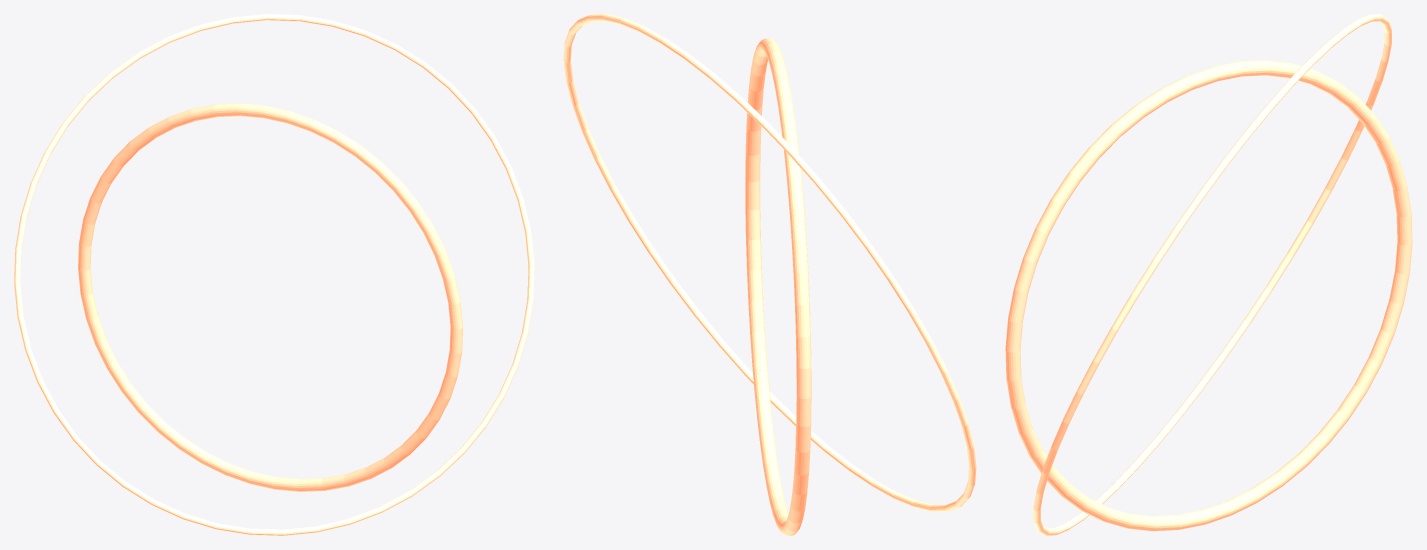
File: toruses.glb
3 renders of one model, left to right at view 1: azimuth 30°, elevation 25°; view 2: azimuth 150°, elevation 25°; view 3: azimuth 270°, elevation 25°, orthographic. The views are drawn at different scales.
Parts seen in each view (by area): view 1: Torus, Torus.002; view 2: Torus, Torus.002; view 3: Torus, Torus.002.
Part boxes in pixels (<box>): Torus: <box>78,103,462,491</box>; Torus.002: <box>14,14,534,535</box>; Torus: <box>745,38,811,535</box>; Torus.002: <box>563,14,976,511</box>; Torus: <box>1005,60,1412,531</box>; Torus.002: <box>1033,14,1391,535</box>.
Bounding box in the file's own units: 1.51 × 1.49 × 1.07.
